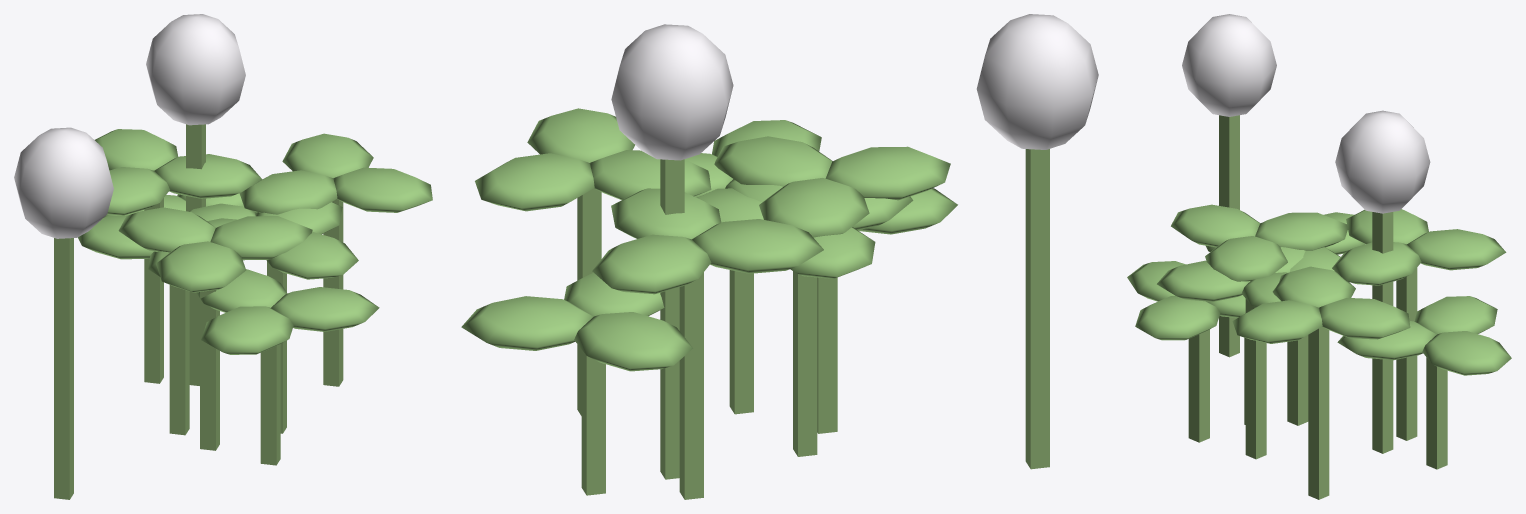
The model's file is Clover.gltf.
The picture shows the model from 3 angles, left to right: view 1: azimuth 30°, elevation 25°; view 2: azimuth 150°, elevation 25°; view 3: azimuth 270°, elevation 25°; orthographic projection. The views are drawn at different scales.
Parts seen in each view (by area): view 1: Clover; view 2: Clover; view 3: Clover.
Part boxes in pixels (x1=…): Clover: x1=14, y1=14, x2=432, y2=499; Clover: x1=461, y1=14, x2=1098, y2=499; Clover: x1=1127, y1=14, x2=1511, y2=499.
Size of the model in its own units: 0.4343 by 0.35 by 0.3643.
